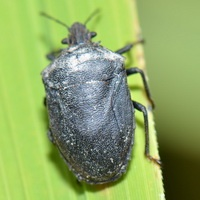insect: (41, 9, 159, 183)
